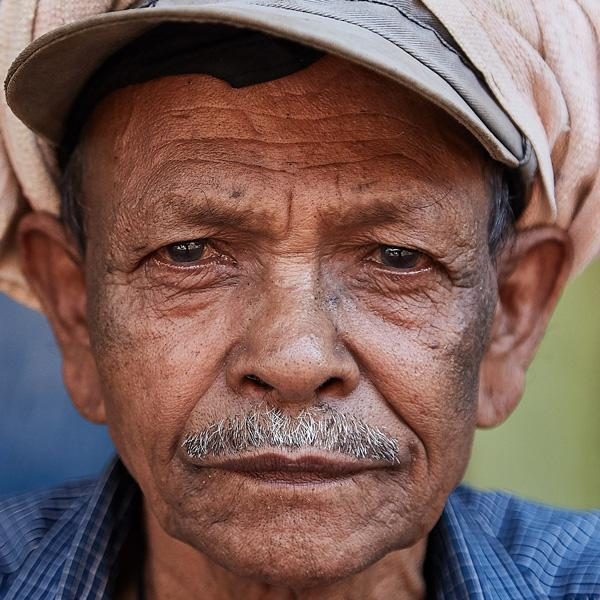Eyes: (339, 217, 458, 298), (135, 223, 252, 290)
